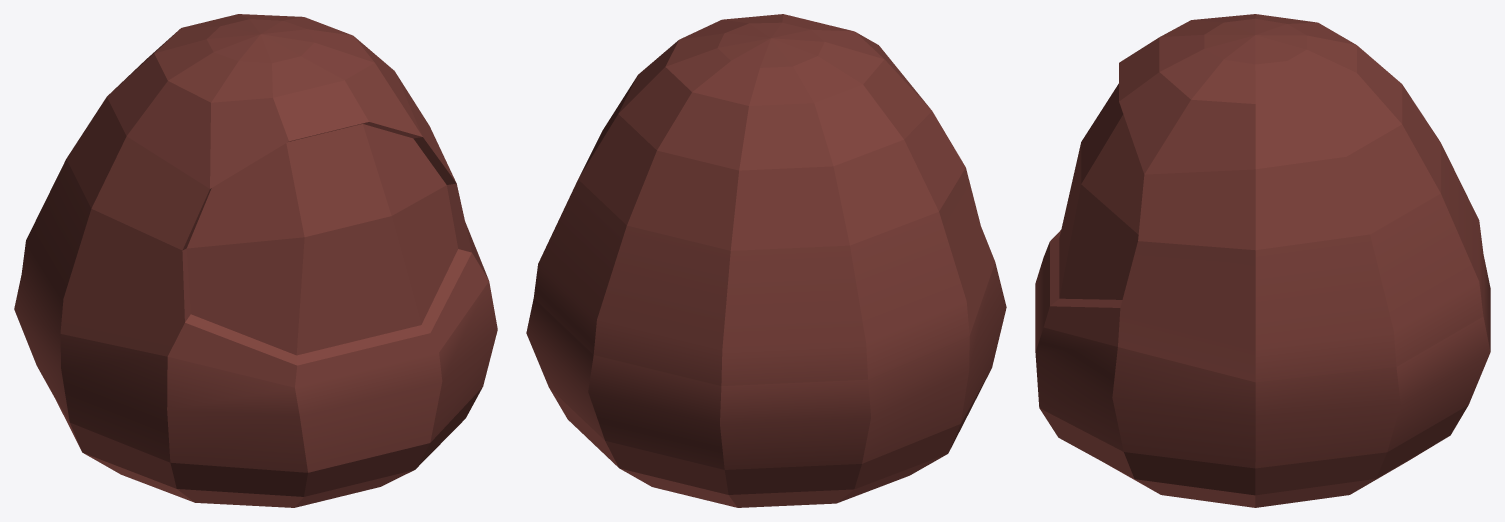
Rendered from M5_Daruma_Boss.fbx.
3 views of the same model, side by side, from view 1: azimuth 30°, elevation 25°; view 2: azimuth 150°, elevation 25°; view 3: azimuth 270°, elevation 25° (orthographic).
Parts seen in each view (by area): view 1: Daruma_low; view 2: Daruma_low; view 3: Daruma_low.
Part boxes in pixels (left/top/right/bottom): Daruma_low: left=14, top=14, right=497, bottom=507; Daruma_low: left=526, top=14, right=1006, bottom=507; Daruma_low: left=1035, top=14, right=1490, bottom=507.
Bounding box in the file's own units: 10.27 × 10.7 × 10.15.
